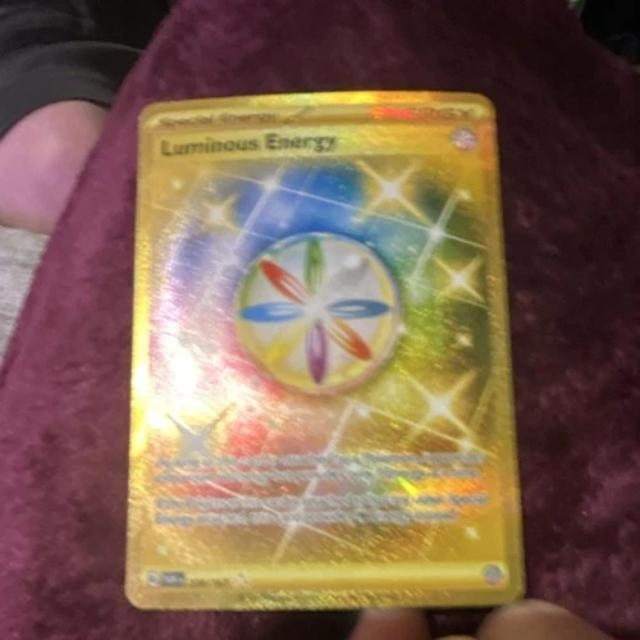Card: (115, 87, 533, 617)
Name: (150, 125, 343, 163)
